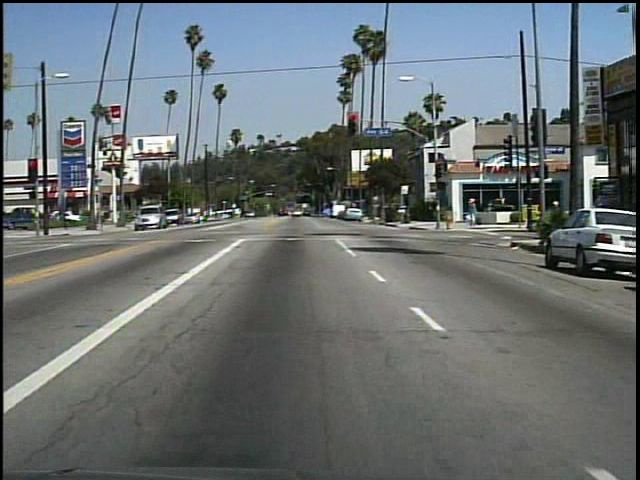person: (543, 194, 566, 235), (464, 194, 480, 227)
